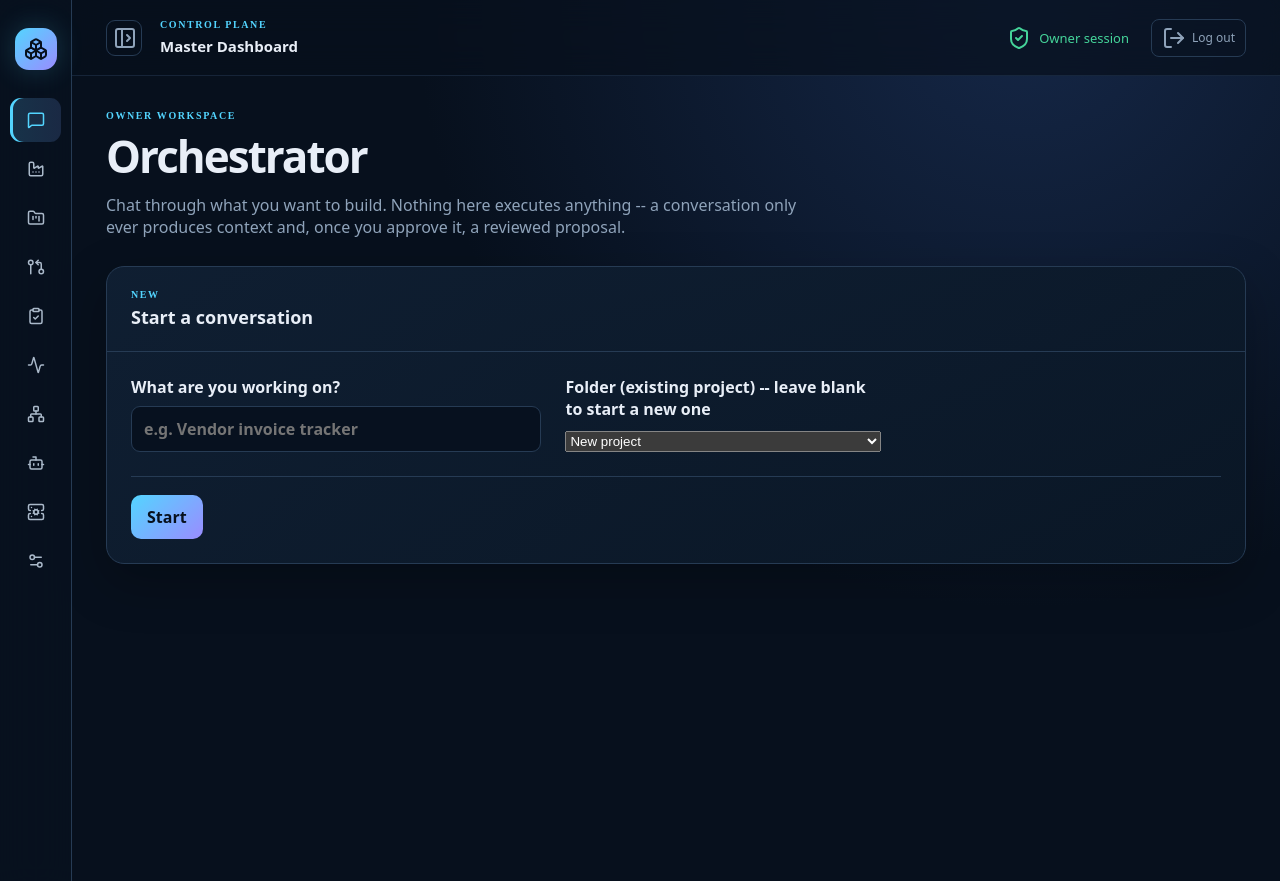
Test: dashboard › shows assistant model attribution and ledger cost in the thread
Click the link named "Chat".
click(36, 120)  # box [10,98,61,142]
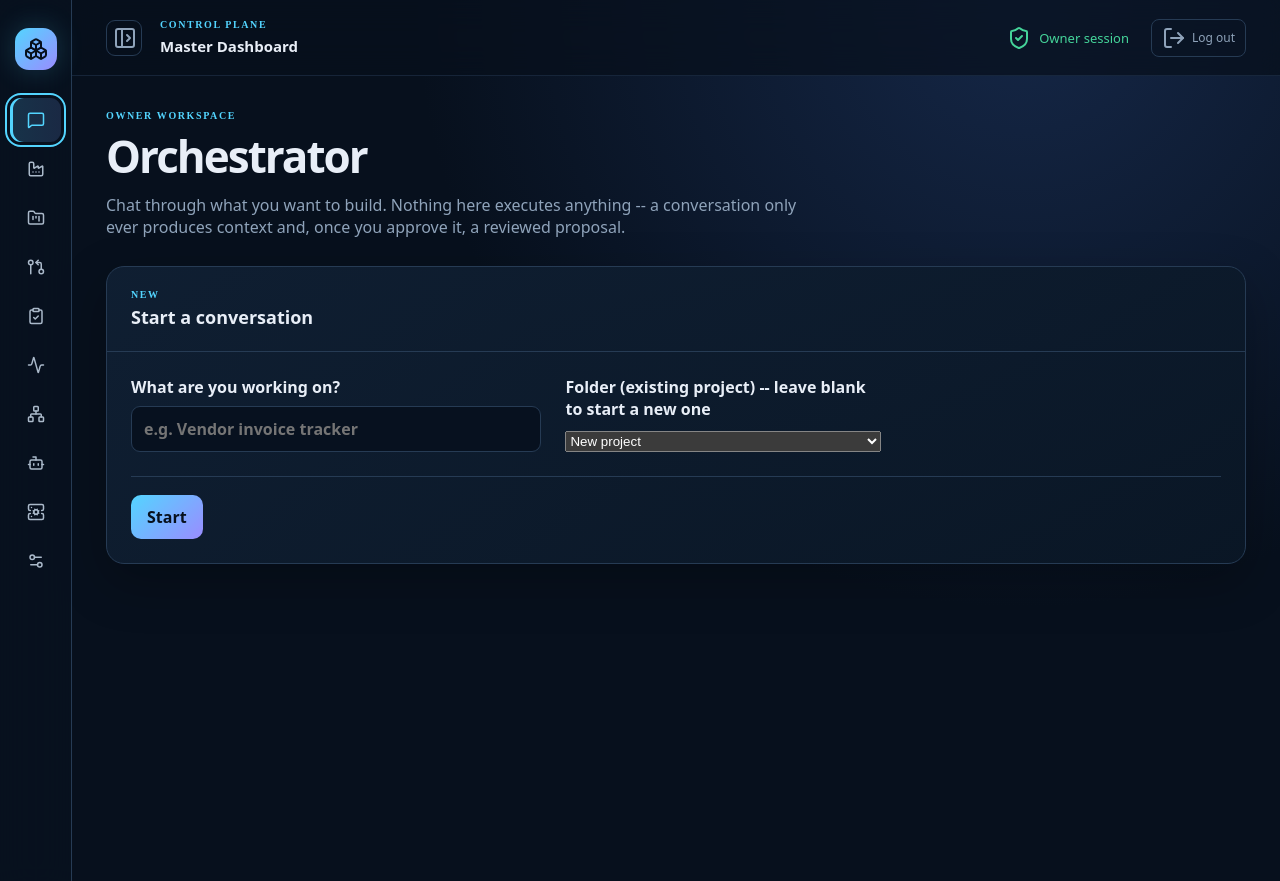
Type "Vendor invoice tracker" into the field named "Conversation title".
click(336, 429); type("Vendor invoice tracker")  # box [131,406,542,452]
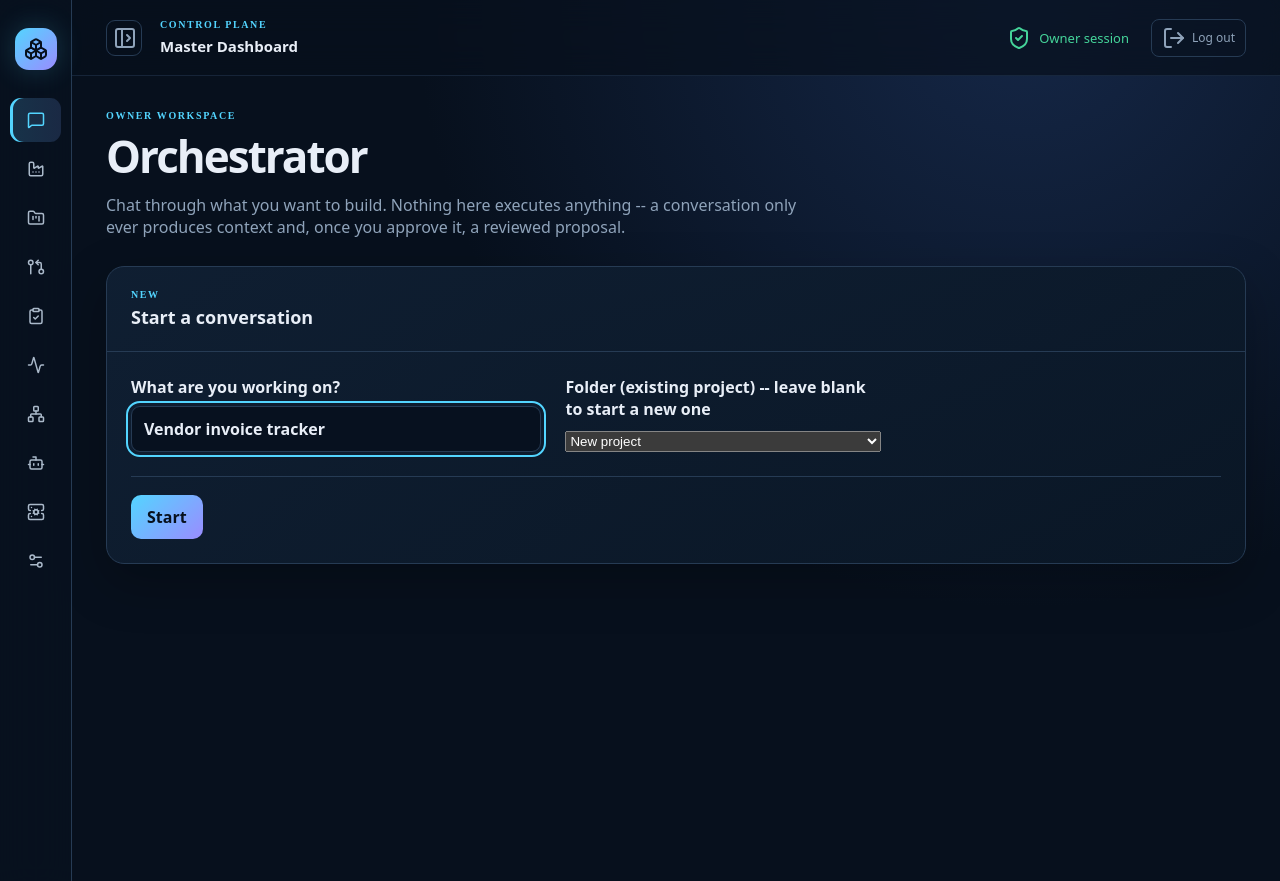
Click the button "Start".
click(167, 517)  # box [131,495,203,539]
(page scrolled)
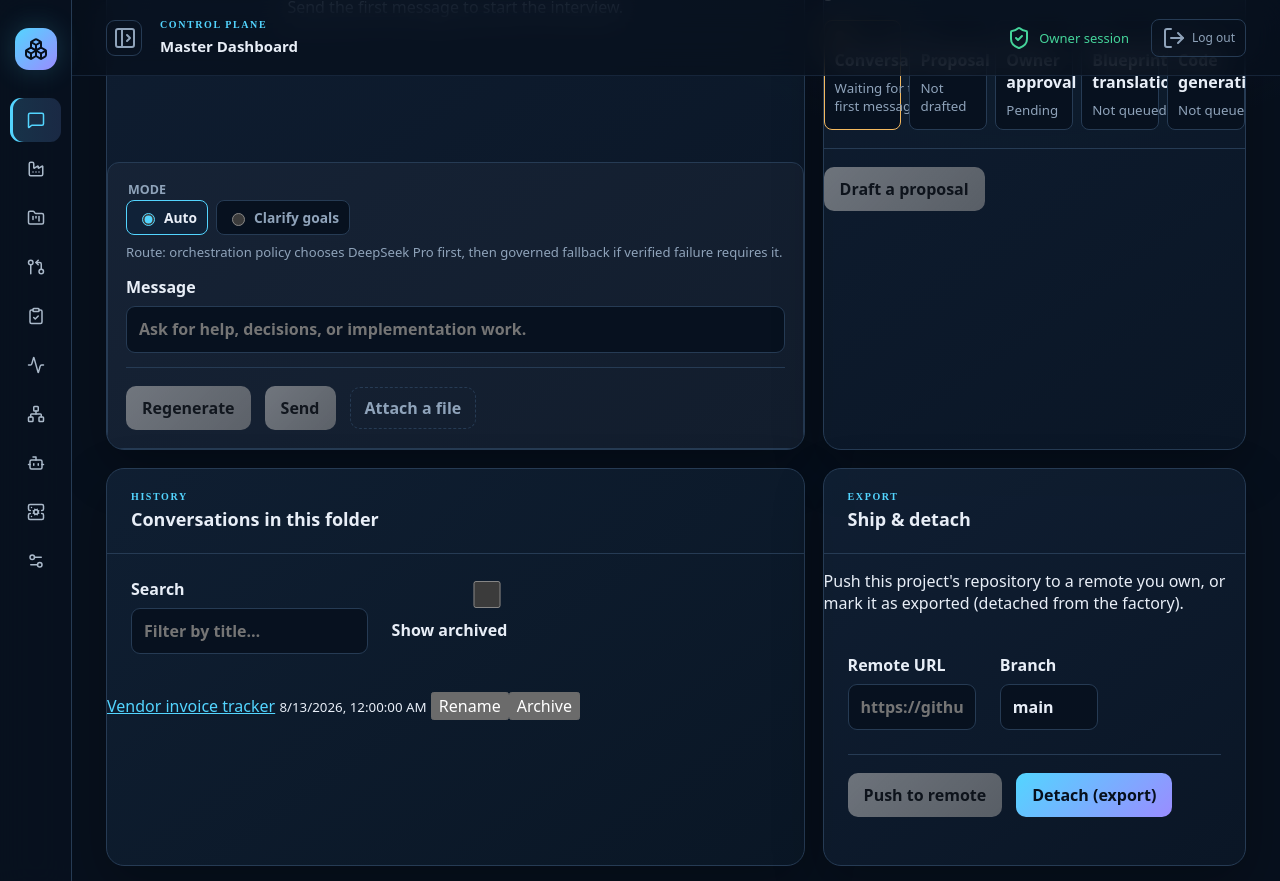
Click the button "Vendor invoice tracker".
click(191, 706)  # box [107,695,275,717]
(page scrolled)
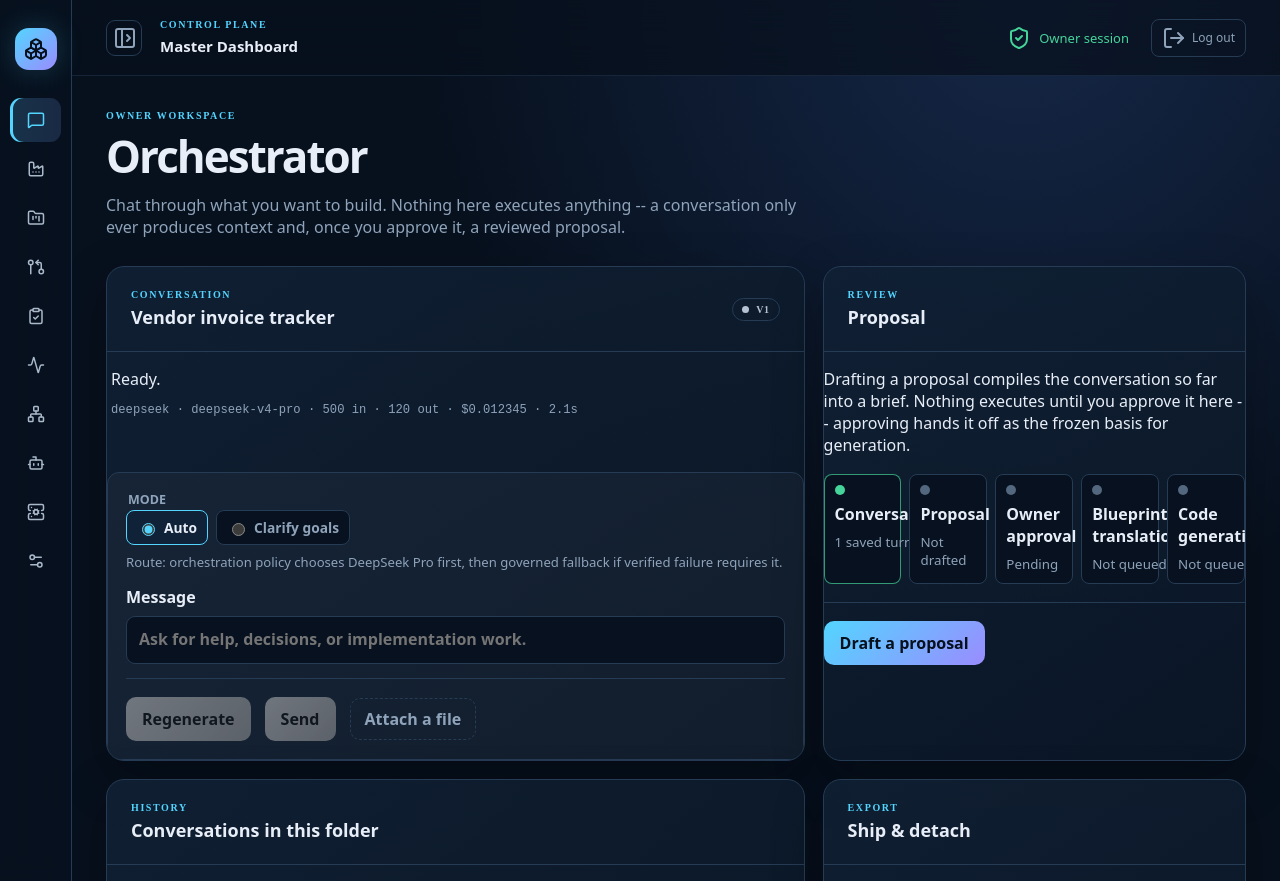
Check: the text "deepseek · deepseek-v4-pro · 500 in · 120 out · $0.012345 · 2.1s" is shown, box [111,403,578,417]
